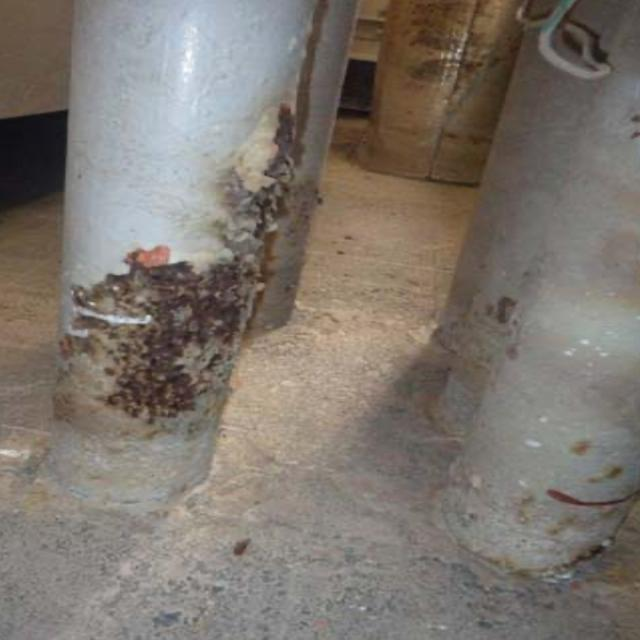corrosion: (56, 79, 303, 434)
